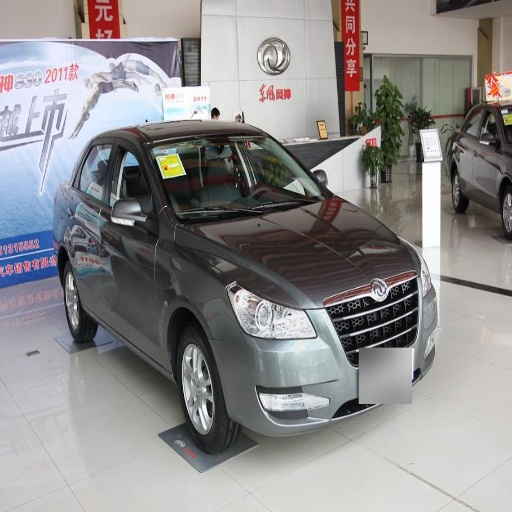front_bumper: (214, 274, 436, 434)
front_right_door: (103, 136, 158, 355)
front_right_light: (228, 283, 315, 338)
hood: (183, 196, 421, 317)
